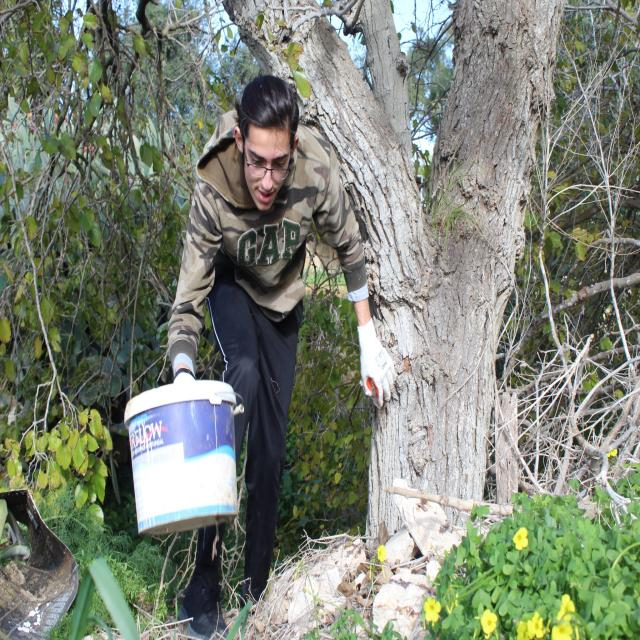Other litter: (0, 489, 79, 640)
Other plastic: (124, 381, 246, 539)
